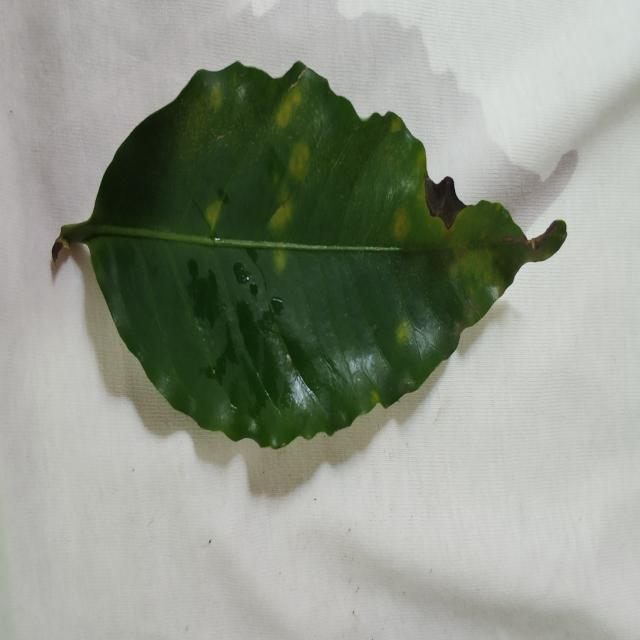Enfermedad-Roya: (55, 63, 568, 452)
